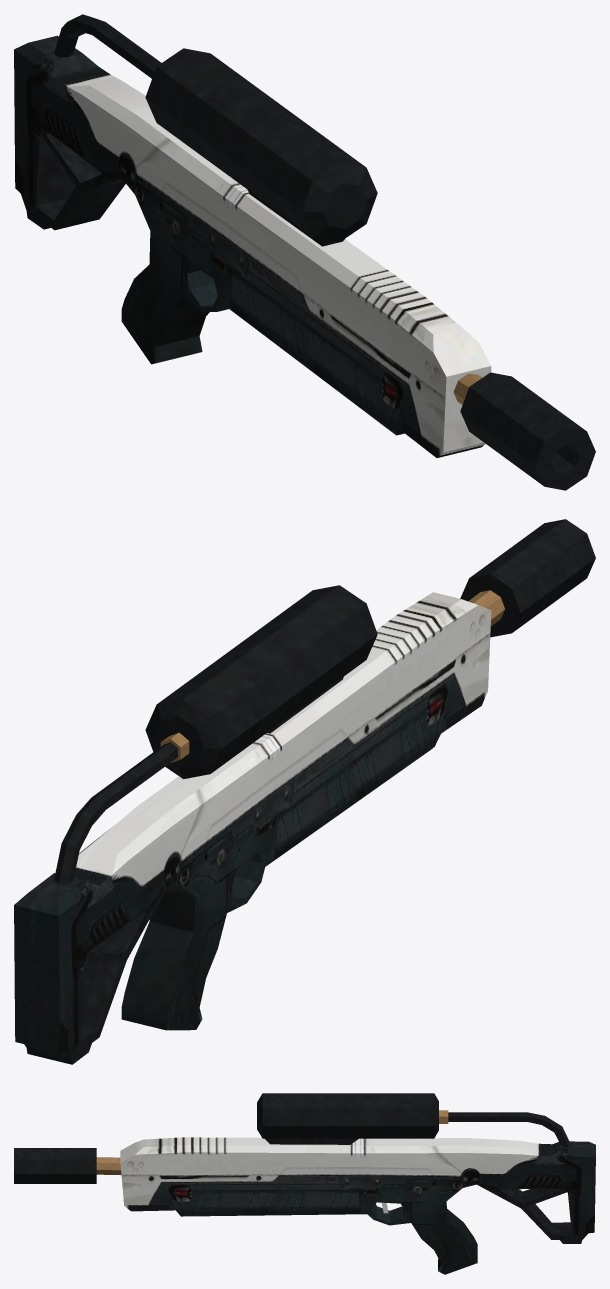
File: Flamethrower.fbx
3 renders of one model, top to bottom at view 1: azimuth 30°, elevation 25°; view 2: azimuth 150°, elevation 25°; view 3: azimuth 270°, elevation 25°, orthographic. The views are drawn at different scales.
Parts seen in each view (by area): view 1: Cube, Cylinder, Cylinder.001, Cylinder.002; view 2: Cube, Cylinder, Cylinder.001, Cylinder.002; view 3: Cube, Cylinder, Cylinder.001, Cylinder.002, Cube.001.
Part boxes in pixels (left/top/right/bottom): Cube: left=14, top=35, right=491, bottom=457; Cylinder: left=145, top=48, right=377, bottom=242; Cylinder.001: left=453, top=372, right=595, bottom=490; Cylinder.002: left=54, top=14, right=161, bottom=78; Cube: left=14, top=592, right=491, bottom=1064; Cylinder: left=145, top=585, right=377, bottom=779; Cylinder.001: left=460, top=519, right=595, bottom=637; Cylinder.002: left=54, top=732, right=189, bottom=884; Cube: left=120, top=1137, right=595, bottom=1274; Cylinder: left=257, top=1093, right=438, bottom=1138; Cylinder.001: left=14, top=1148, right=121, bottom=1183; Cylinder.002: left=439, top=1110, right=571, bottom=1147; Cube.001: left=265, top=1138, right=358, bottom=1144.
Size of the model in its own units: 136 by 542 by 1634.
